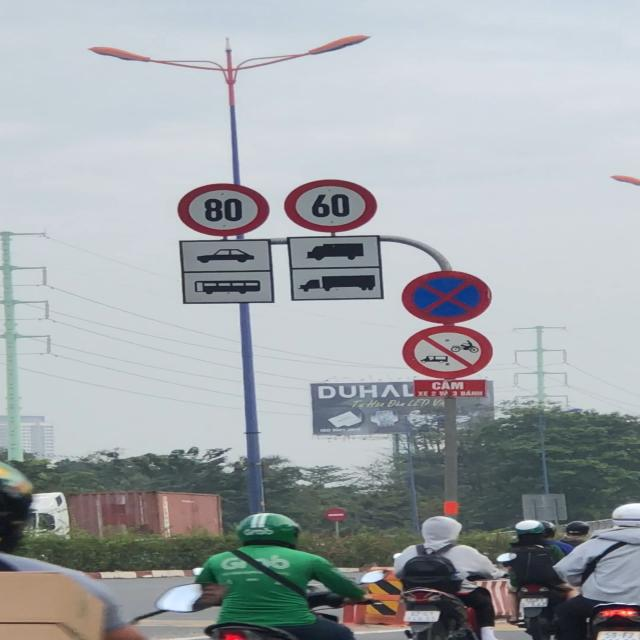Bien bao cam dung xe va do xe: (402, 269, 494, 325)
Bien bao toc do toi da cho phep: (281, 178, 382, 234), (174, 182, 271, 238)
